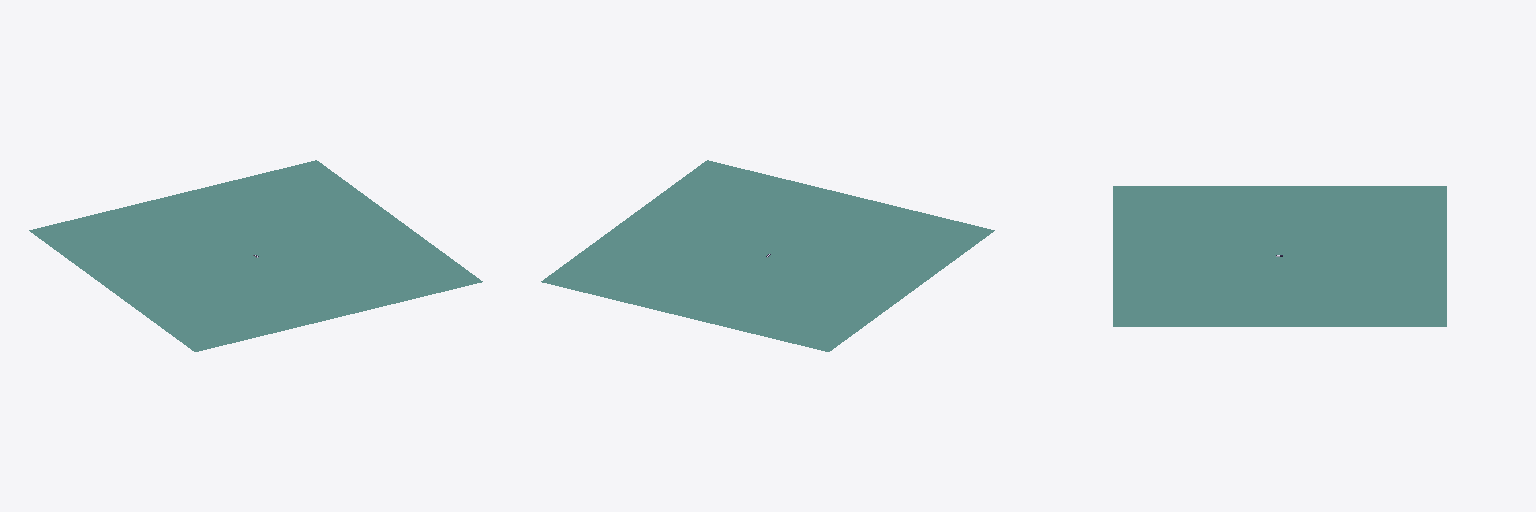
Rendered from level2.obj.
3 renders of one model, left to right at view 1: azimuth 30°, elevation 25°; view 2: azimuth 150°, elevation 25°; view 3: azimuth 270°, elevation 25°, orthographic.
Visible parts, largest first — view 1: Plane_Plane.001; view 2: Plane_Plane.001; view 3: Plane_Plane.001.
Part boxes in pixels (left/top/right/bottom): Plane_Plane.001: left=29, top=160, right=482, bottom=351; Plane_Plane.001: left=541, top=160, right=994, bottom=351; Plane_Plane.001: left=1113, top=186, right=1446, bottom=326.
Bounding box in the file's own units: 1000 × 3.78 × 1000.